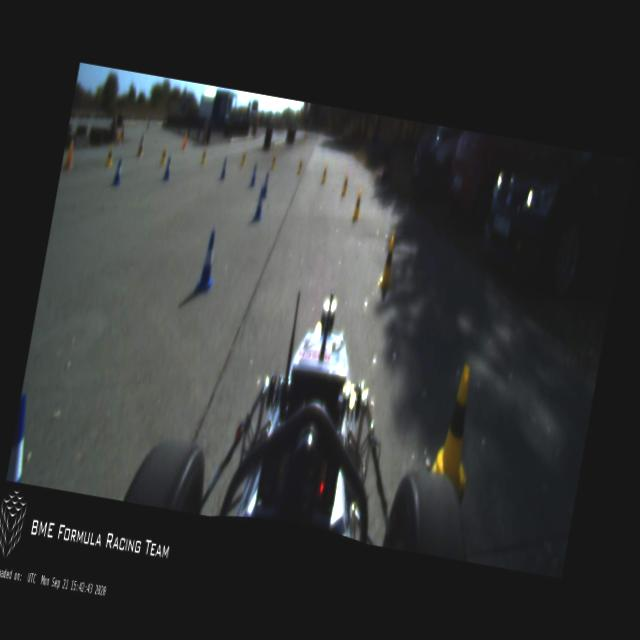blue_cone: (6, 393, 36, 483), (194, 228, 221, 294), (252, 187, 266, 219), (112, 157, 124, 185), (249, 162, 259, 188), (260, 173, 270, 198), (219, 158, 229, 180), (163, 157, 172, 180)
large_orange_cone: (136, 132, 146, 160)
unknown_cone: (62, 139, 78, 171), (180, 131, 188, 150)
yellow_cone: (428, 360, 486, 496), (376, 235, 399, 292), (352, 187, 364, 219), (104, 146, 115, 168), (340, 172, 349, 195), (320, 164, 328, 183), (200, 147, 207, 166), (160, 147, 167, 165), (296, 156, 303, 174), (239, 148, 246, 166), (270, 152, 276, 168)
